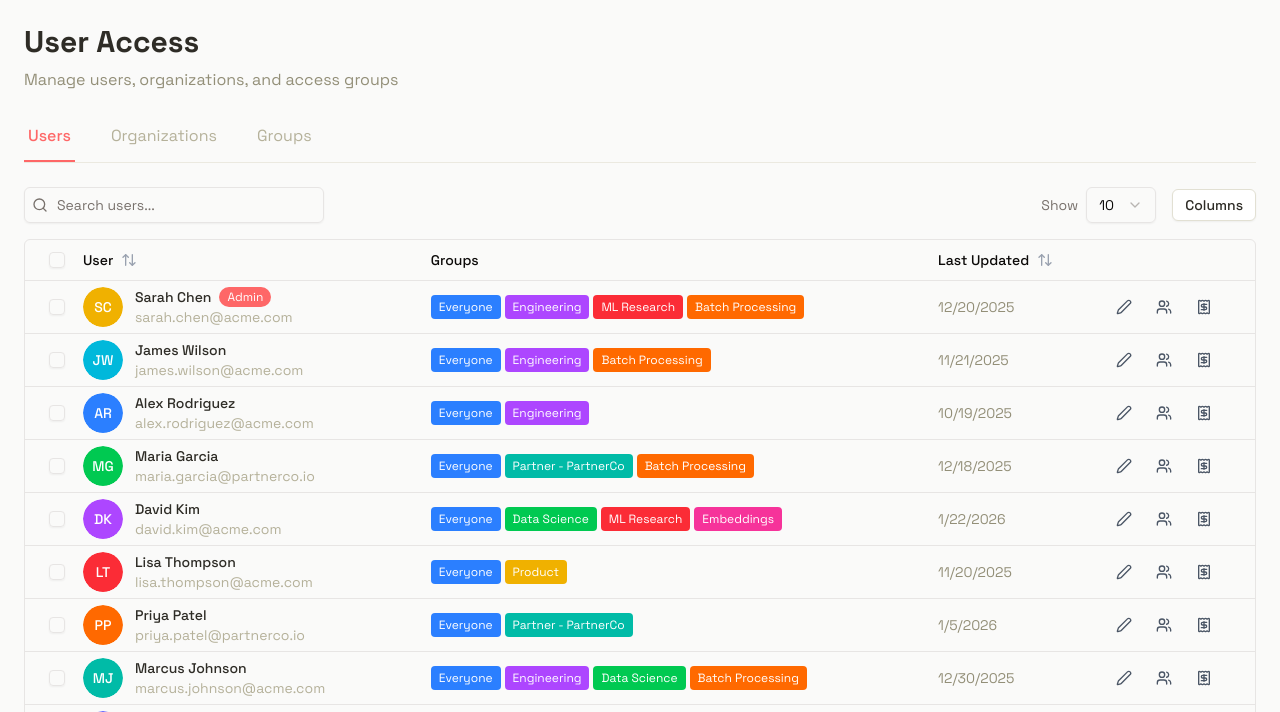
it: UsersGroups Component › User Management Journey › searches users without offering account creation
The width and height of the screenshot is (1280, 712).
Check: the heading "User Access" is shown, box left=24, top=22, right=199, bottom=61
Check: the text "Sarah Chen" is shown, box left=135, top=286, right=212, bottom=306
Type "Sarah" into the field labelled "Search users..." at (174, 205), box left=24, top=187, right=324, bottom=223
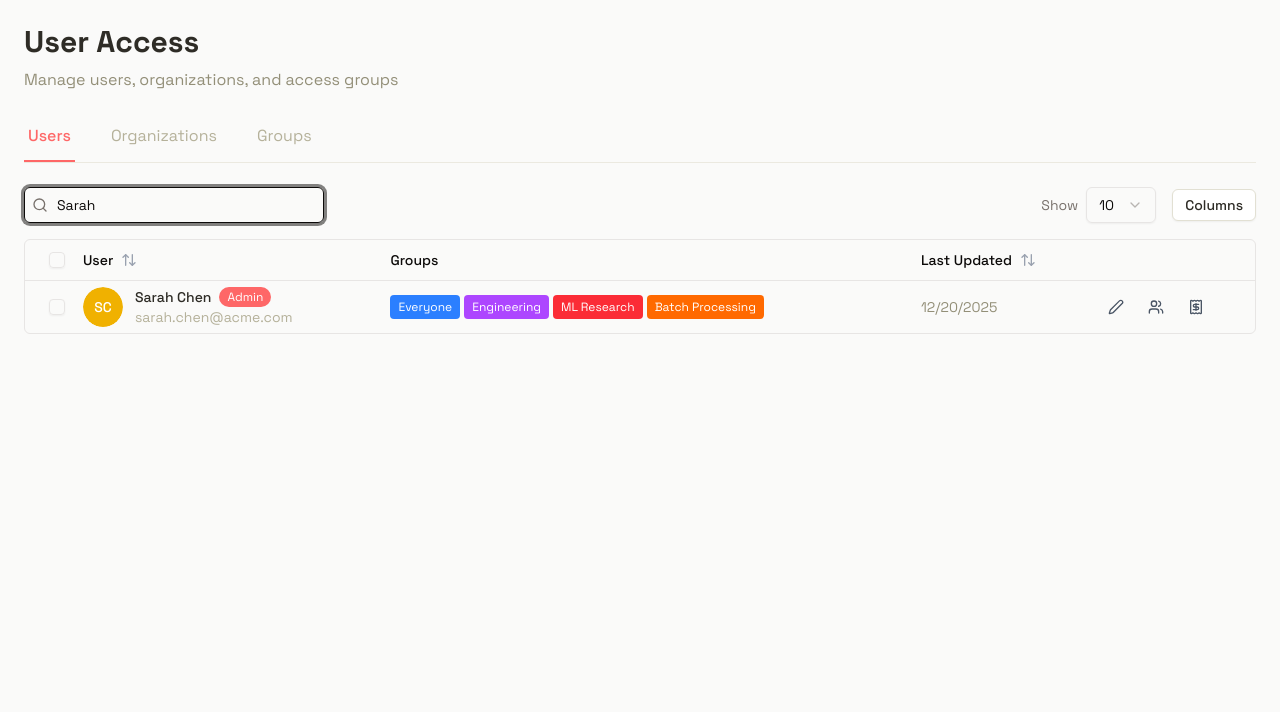
Check: the text "Sarah Chen" is shown, box left=135, top=287, right=212, bottom=307
Check: the text "James Wilson" is gone
Clear the field named "Search users" at (174, 205), box left=24, top=187, right=324, bottom=223
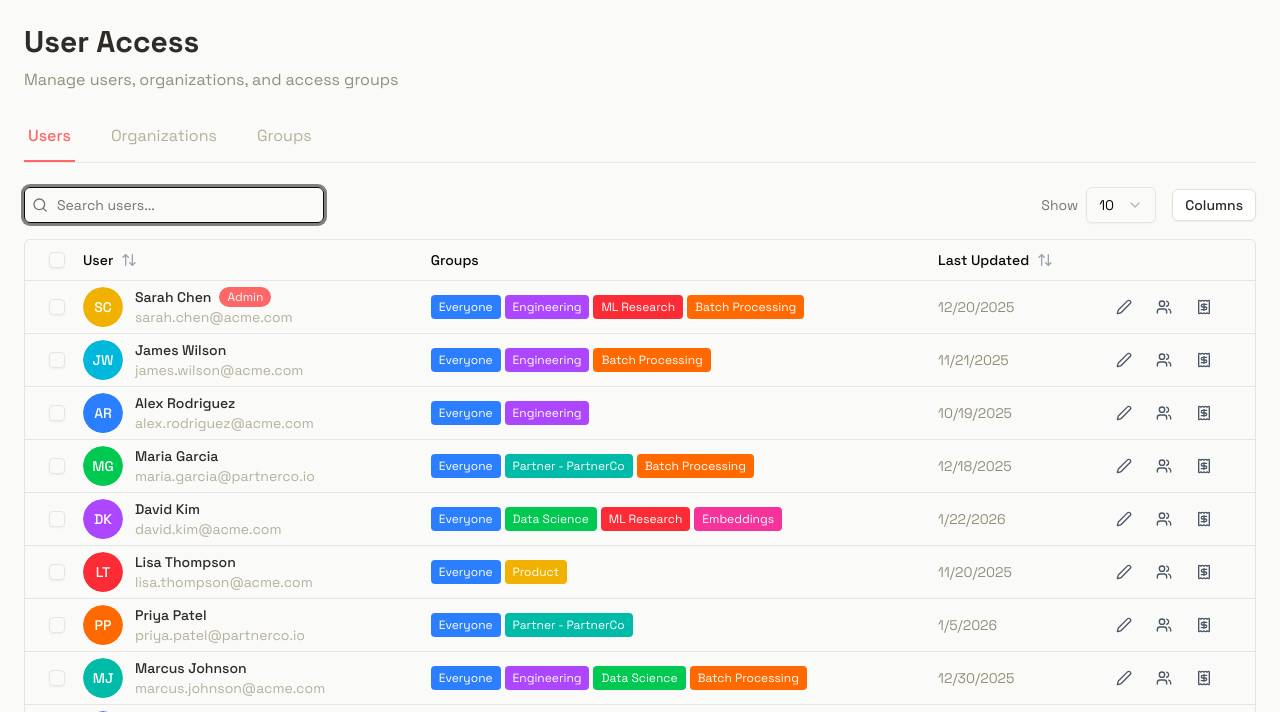
Check: the text "Sarah Chen" is shown, box left=135, top=286, right=212, bottom=306
Check: the text "James Wilson" is shown, box left=135, top=340, right=226, bottom=360
